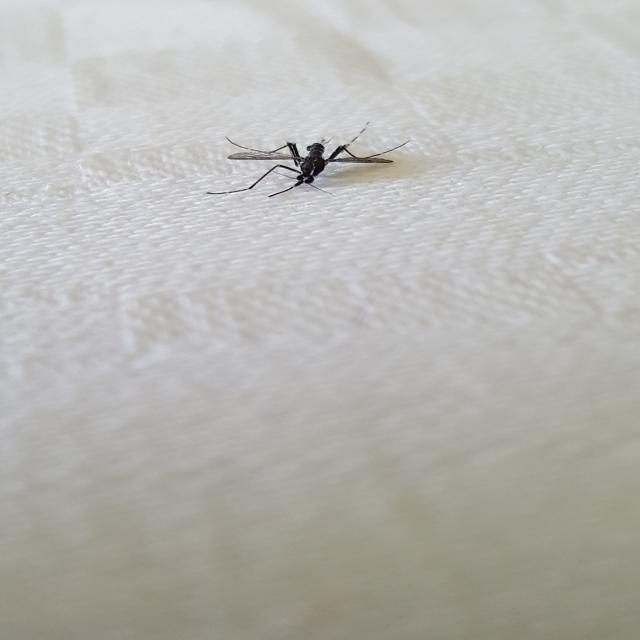albopictus: (208, 116, 405, 202)
